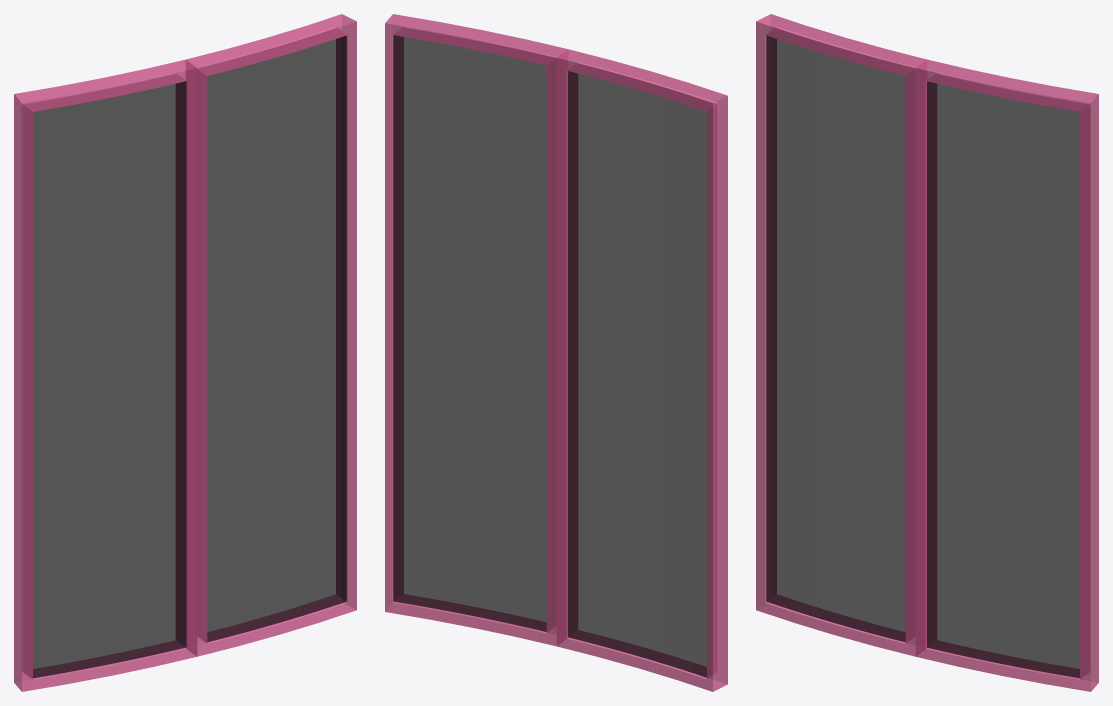
The model's file is OsakaDoor.fbx.
3 renders of one model, left to right at view 1: azimuth 30°, elevation 25°; view 2: azimuth 150°, elevation 25°; view 3: azimuth 330°, elevation 25°, orthographic.
Parts seen in each view (by area): view 1: Glass_L, Glass_R, Door_R, Door_L; view 2: Glass_R, Glass_L, Door_L, Door_R; view 3: Glass_R, Glass_L, Door_R, Door_L.
Boxes of the visible parts, x1,y1,x2,y2 form: Glass_L: (33,81,185,678); Glass_R: (207,35,346,642); Door_R: (186,14,356,656); Door_L: (14,59,197,691); Glass_R: (393,35,546,631); Glass_L: (568,71,706,677); Door_L: (556,49,727,691); Door_R: (385,14,568,646); Glass_R: (927,81,1079,678); Glass_L: (766,35,905,642); Door_R: (915,59,1098,691); Door_L: (756,14,926,656).
Size of the model in its own units: 167 by 280 by 16.54.
